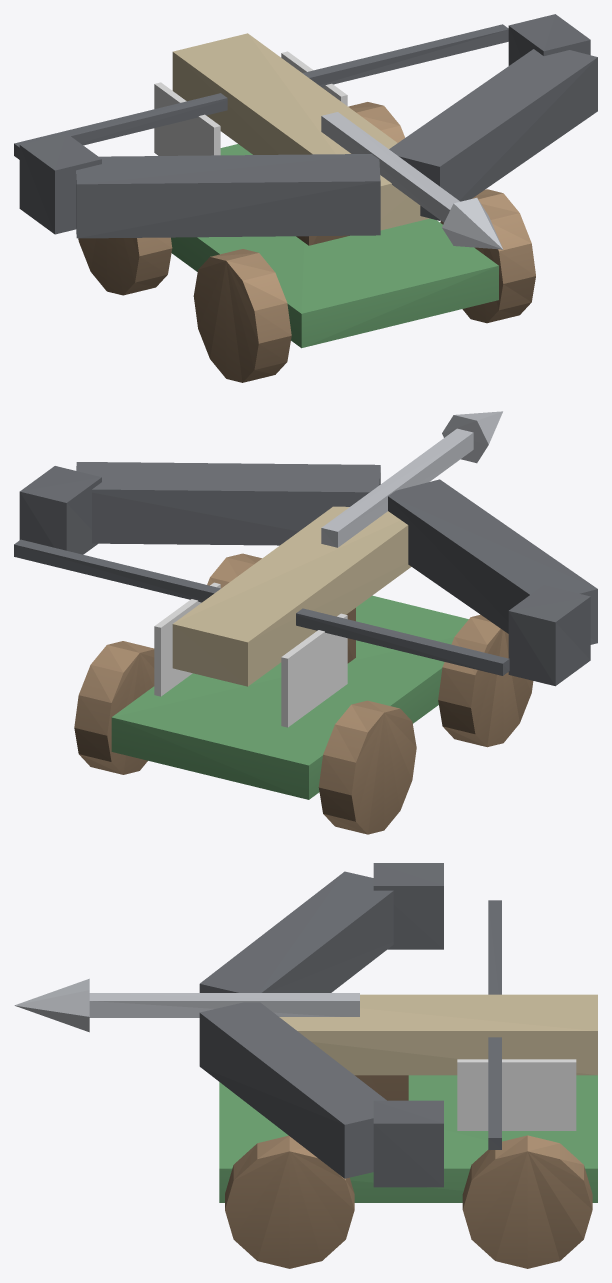
File: Ballista.glb
3 views of the same model, one above another, from view 1: azimuth 30°, elevation 25°; view 2: azimuth 150°, elevation 25°; view 3: azimuth 270°, elevation 25° (orthographic).
Visible parts, largest first — view 1: Body; view 2: Body; view 3: Body.
Part boxes in pixels (bbox=[...]): Body: bbox=[14, 14, 597, 382]; Body: bbox=[14, 411, 597, 834]; Body: bbox=[14, 863, 597, 1268].
Bounding box in the file's own units: 1.14 × 0.4433 × 1.08.
